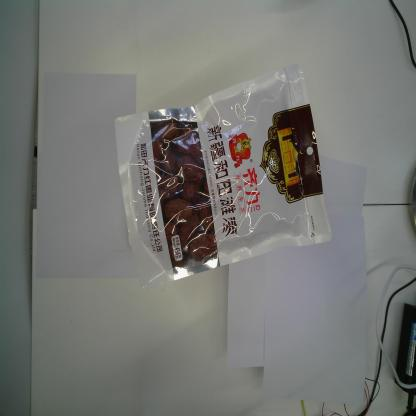Dried Food: (112, 63, 335, 295)
